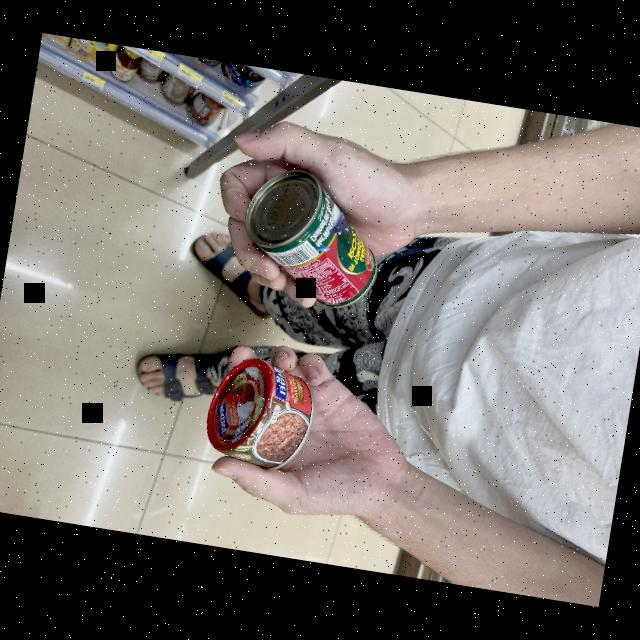can: (235, 160, 402, 336), (188, 346, 329, 478)
